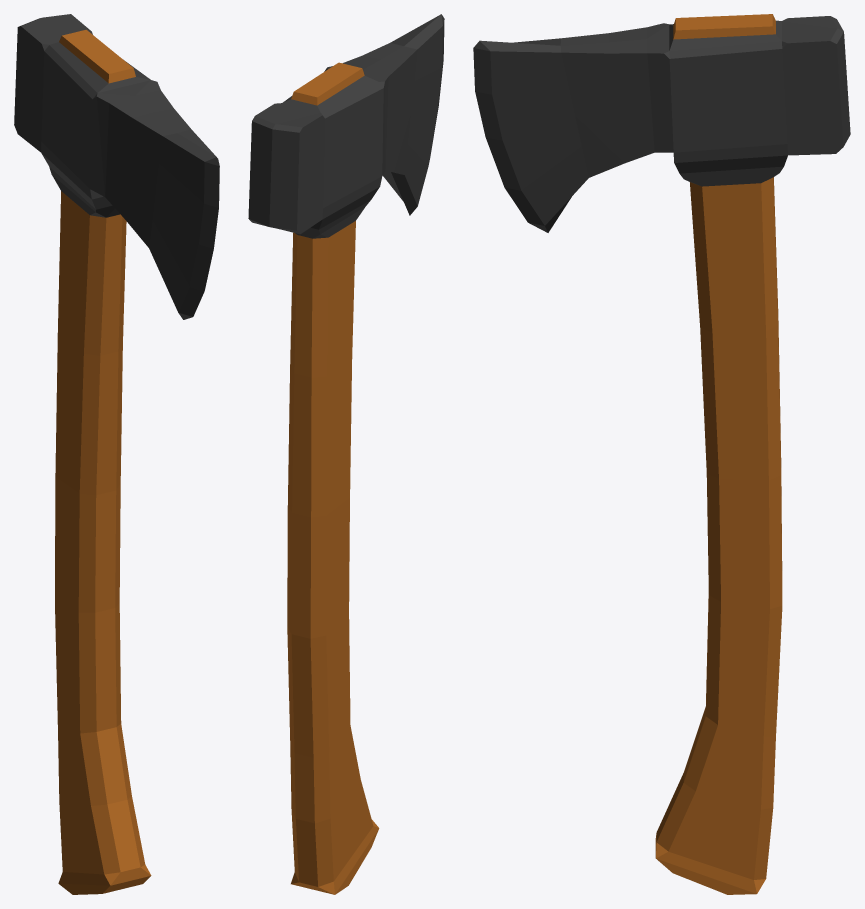
The model's file is hatchet.fbx.
The picture shows the model from 3 angles, left to right: view 1: azimuth 30°, elevation 25°; view 2: azimuth 150°, elevation 25°; view 3: azimuth 270°, elevation 25°; orthographic projection. The views are drawn at different scales.
Parts seen in each view (by area): view 1: Cube; view 2: Cube; view 3: Cube.
Part boxes in pixels (x1,y1,x2,y2): Cube: [14, 14, 219, 894]; Cube: [248, 14, 444, 894]; Cube: [473, 14, 850, 894].
Size of the model in its own units: 0.0711 by 0.8862 by 0.3511.
